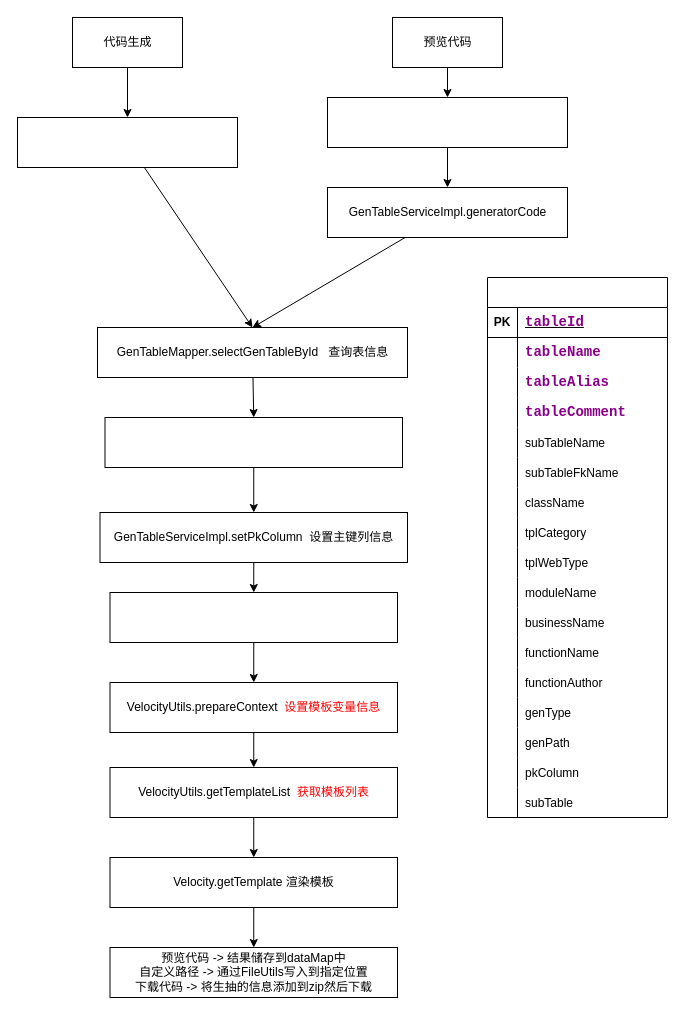
The diagram is 685 pixels wide and 1015 high, and some of its shapes have lost their labels. The box of each missing label's shape, as (x1, y1, x2, y2) in pixels:
GenTable: (486, 276, 668, 818)
GenTableServiceImpl.downloadCode: (326, 96, 568, 148)
GenTableServiceImpl.previewCode: (16, 116, 238, 168)
GenTableServiceImpl.setSubTable 设置主子表信息: (104, 416, 402, 468)
VelocityInitializer.initVelocity 初始化vm方法: (109, 592, 398, 642)
